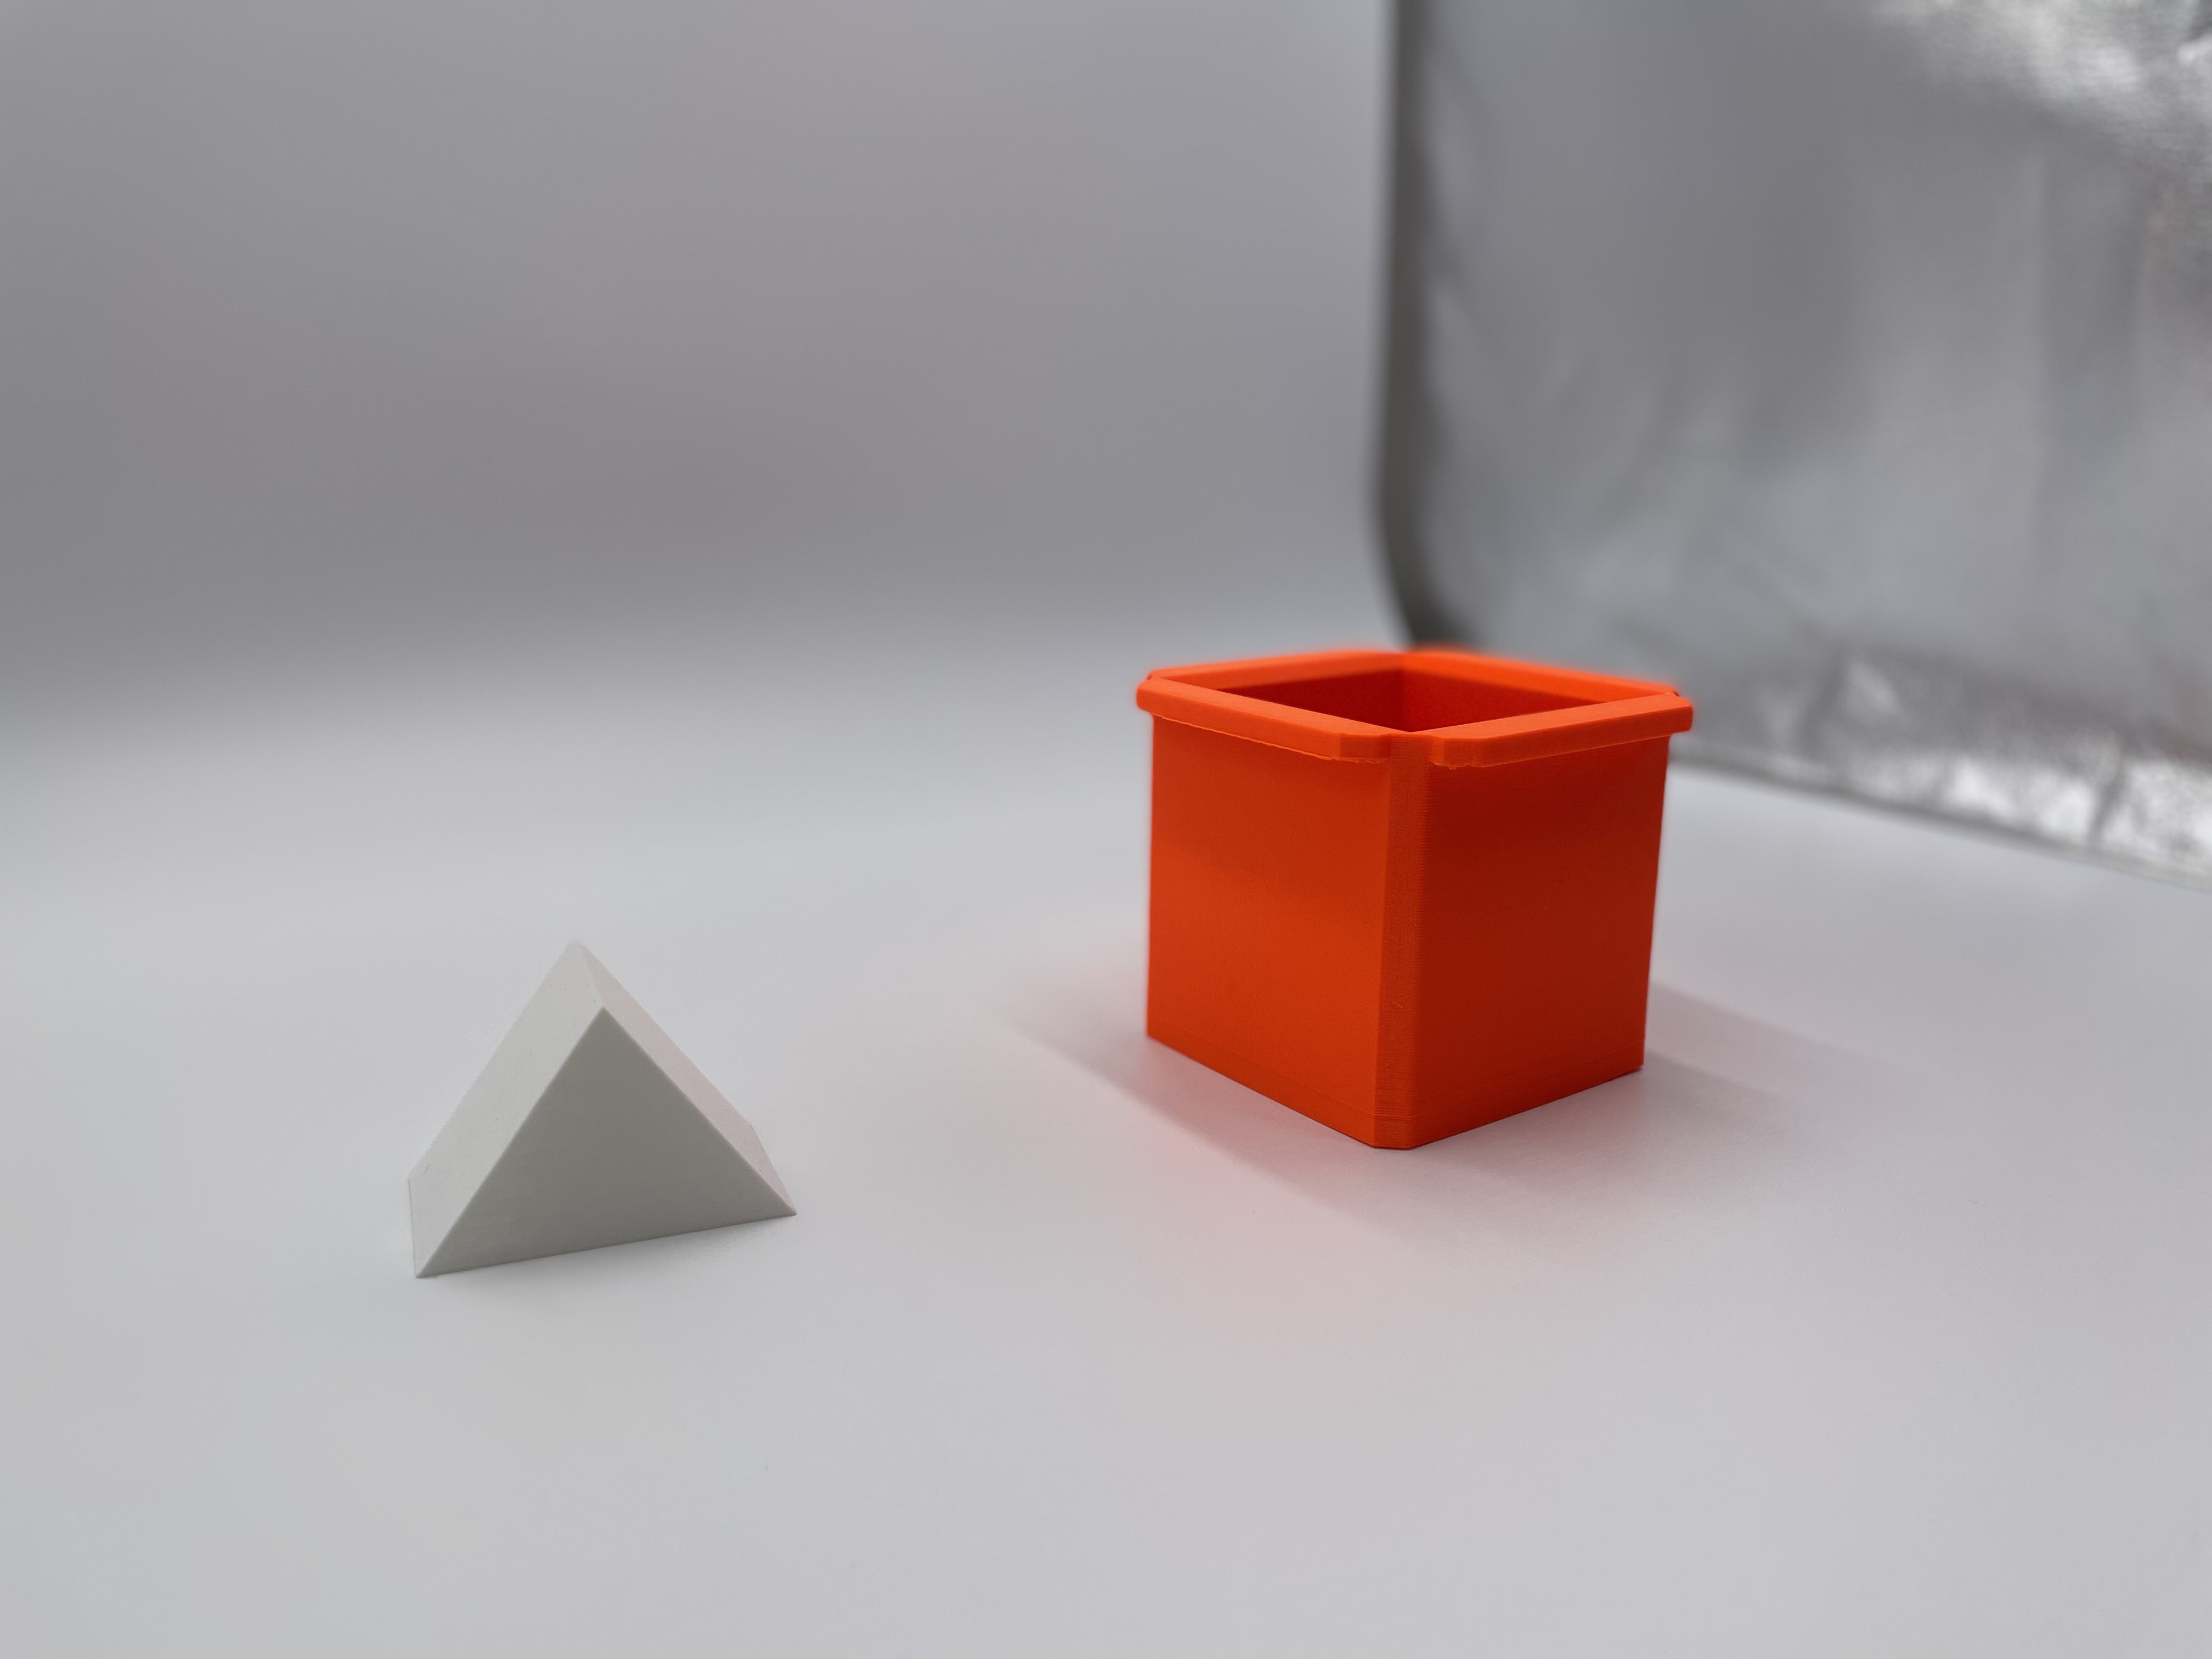payload1: (1122, 633, 1724, 1173)
payload2: (387, 917, 824, 1284)
